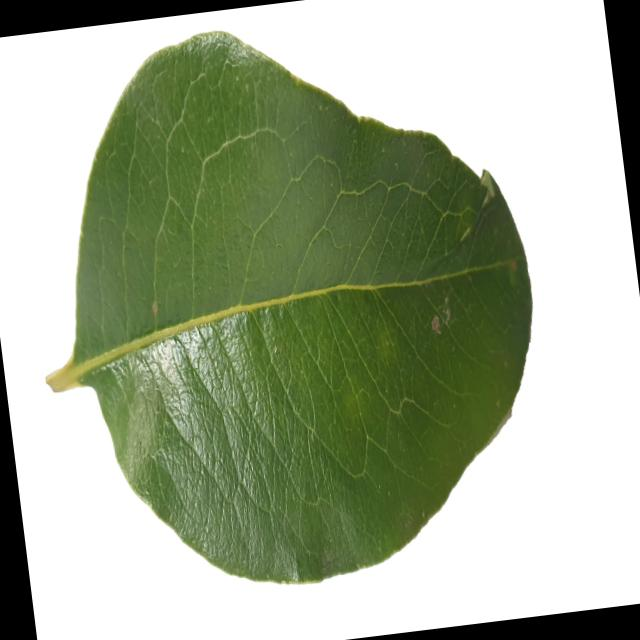Medicinal-Sandalwood: (4, 0, 564, 609)
